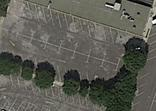parkingspot: (0, 22, 121, 71), (14, 0, 130, 48), (5, 49, 109, 97), (4, 70, 95, 111), (0, 94, 37, 111)
